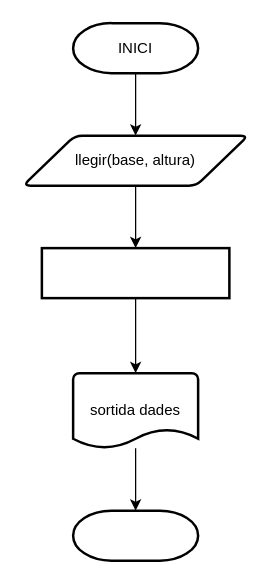
Image size: 270x583. Some labels were removed from this diagram. The shapes that lost their labels are listed below. From the top down, each one's centre as x and y in pixels, then its label:
[135,272]: resultat = (base * altura) / 2
[135,535]: FINAL
